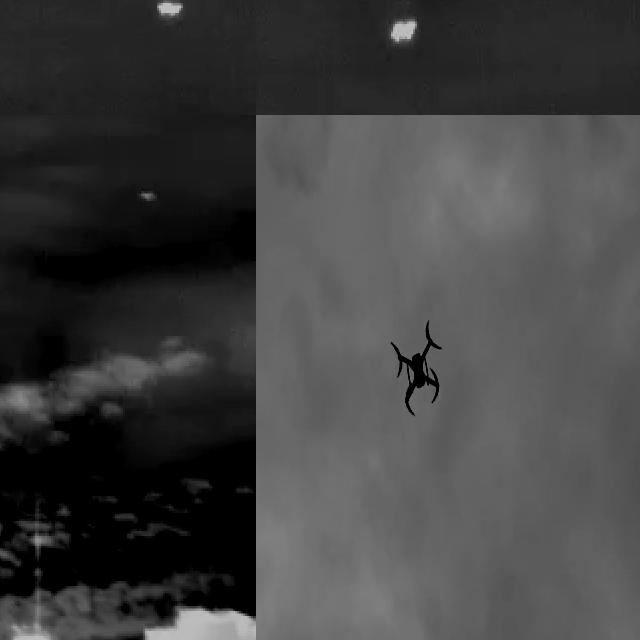0: (131, 184, 167, 218)
1: (384, 18, 428, 50), (150, 0, 194, 28)
drone: (388, 314, 449, 426)
